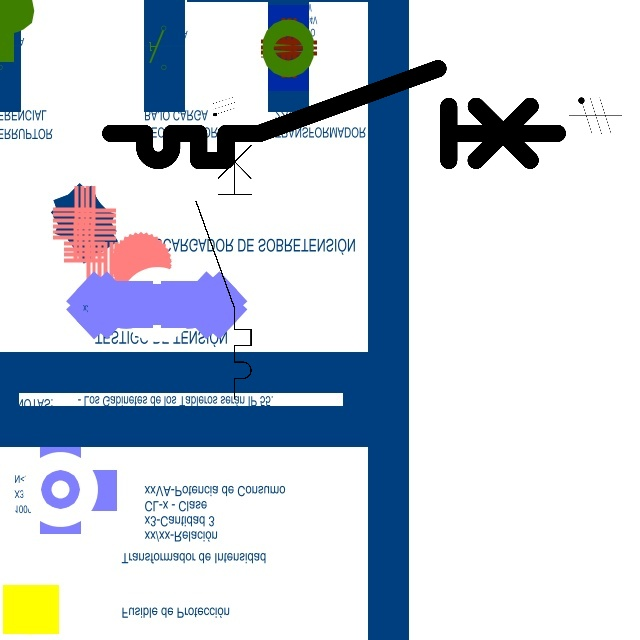interruptor_termomagnetico: (99, 57, 568, 172), (189, 122, 258, 406)
